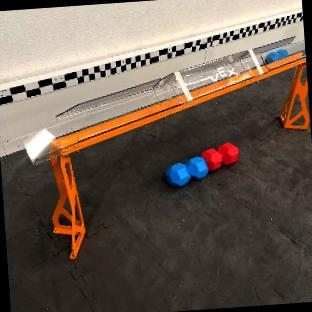Goal: (22, 37, 310, 256)
V5_BLUE: (166, 156, 207, 186), (276, 49, 288, 57)
V5_RED: (201, 142, 238, 170)
